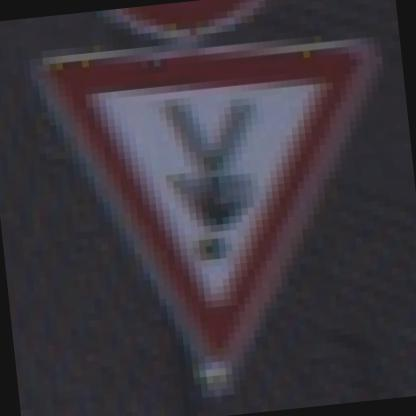crosswalk: (25, 11, 395, 367)
